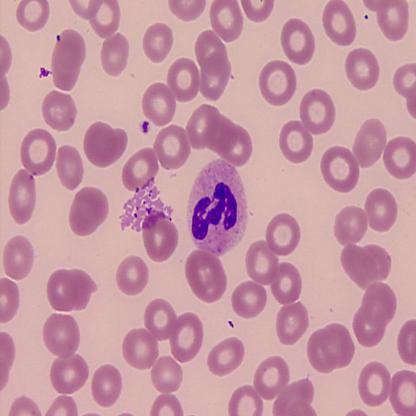Segmented neutrophil: (184, 158, 251, 253)
